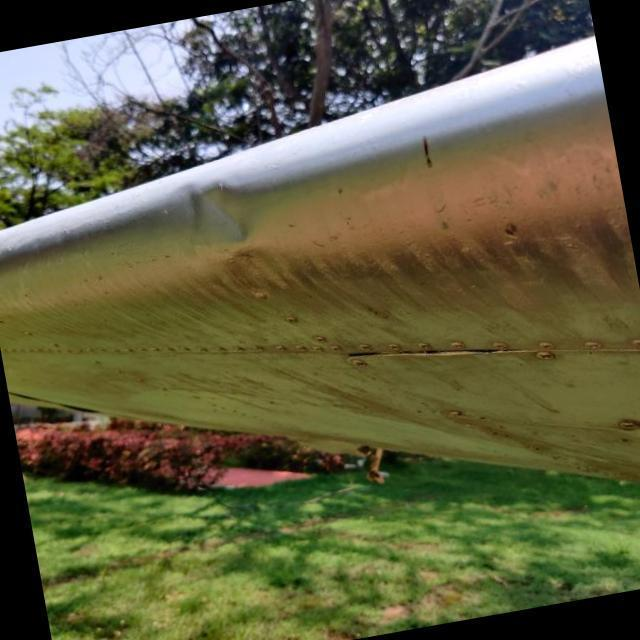dent: (167, 178, 253, 252)
